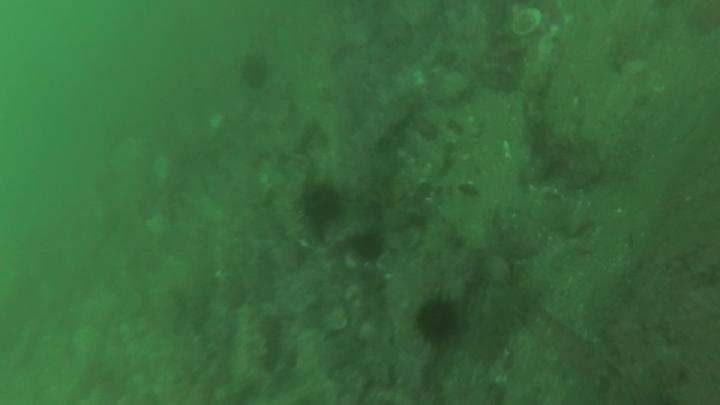echinus: (417, 305, 459, 346), (306, 191, 343, 223), (242, 61, 267, 89), (357, 240, 381, 260)
scallop: (516, 10, 543, 37)
